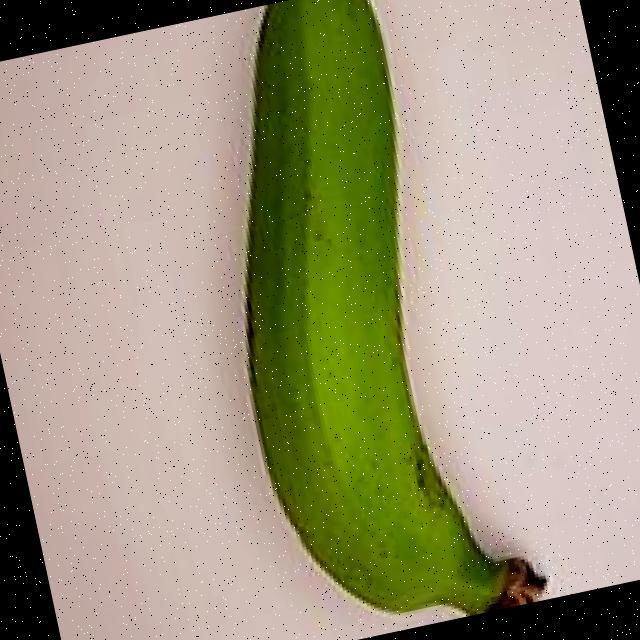Raw: (147, 0, 576, 640)
